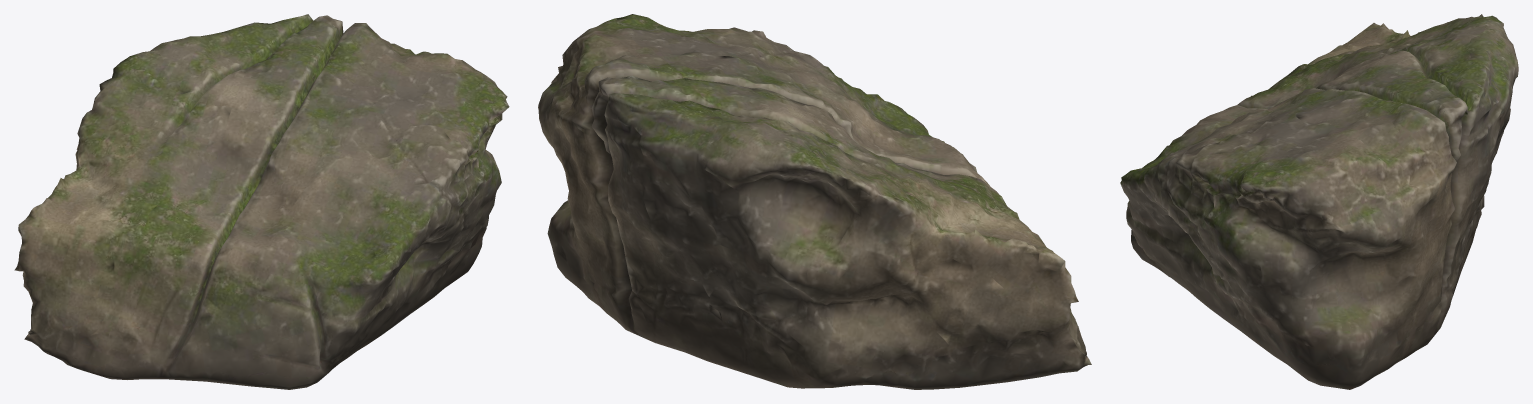
File: kamen_piskovec_2.glb
The picture shows the model from 3 angles, left to right: view 1: azimuth 30°, elevation 25°; view 2: azimuth 150°, elevation 25°; view 3: azimuth 270°, elevation 25°; orthographic projection. The views are drawn at different scales.
Parts seen in each view (by area): view 1: kamen_piskovec_2; view 2: kamen_piskovec_2; view 3: kamen_piskovec_2.
Boxes of the visible parts, x1,y1,x2,y2 form: kamen_piskovec_2: [14, 14, 509, 389]; kamen_piskovec_2: [538, 14, 1091, 389]; kamen_piskovec_2: [1120, 14, 1518, 389].
Size of the model in its own units: 1.31 by 0.6238 by 0.9073.
1 material, 1 textured.
